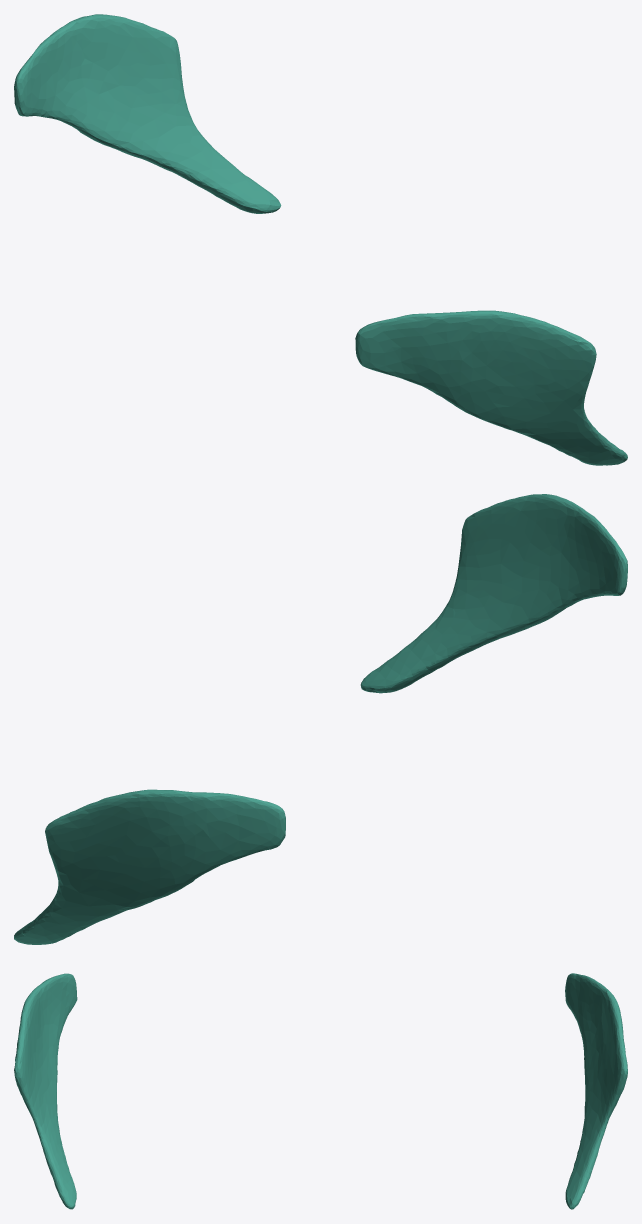
3 renders of one model, top to bottom at view 1: azimuth 30°, elevation 25°; view 2: azimuth 150°, elevation 25°; view 3: azimuth 270°, elevation 25°, orthographic. The views are drawn at different scales.
Parts seen in each view (by area): view 1: 1035.obj; view 2: 1035.obj; view 3: 1035.obj.
Boxes of the visible parts, x1,y1,x2,y2 form: 1035.obj: [14, 14, 627, 465]; 1035.obj: [14, 494, 627, 944]; 1035.obj: [14, 973, 627, 1209].
Bounding box in the file's own units: 3441 × 2624 × 9391.
